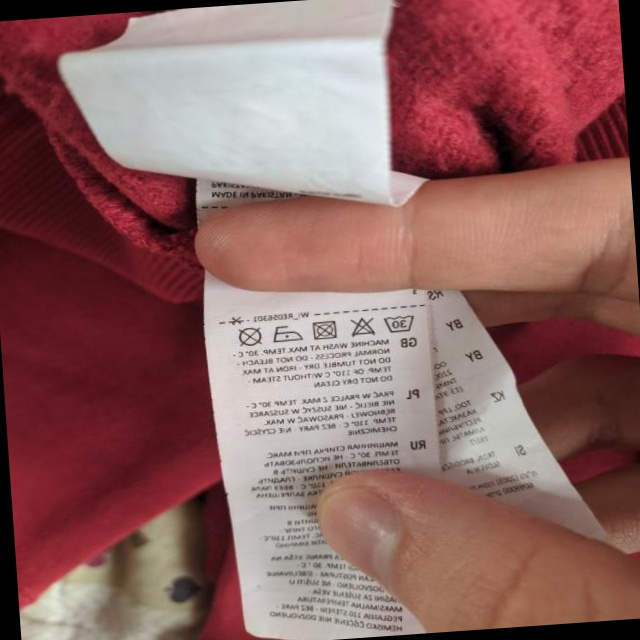30C: (380, 306, 417, 336)
DN_bleach: (347, 312, 376, 338)
DN_dry_clean: (234, 324, 264, 349)
DN_tumble_dry: (309, 317, 339, 341)
iron_low: (270, 320, 304, 345)
